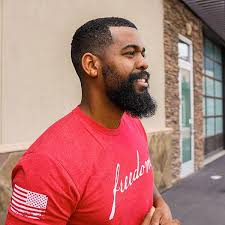b.y: (123, 72, 156, 118)
